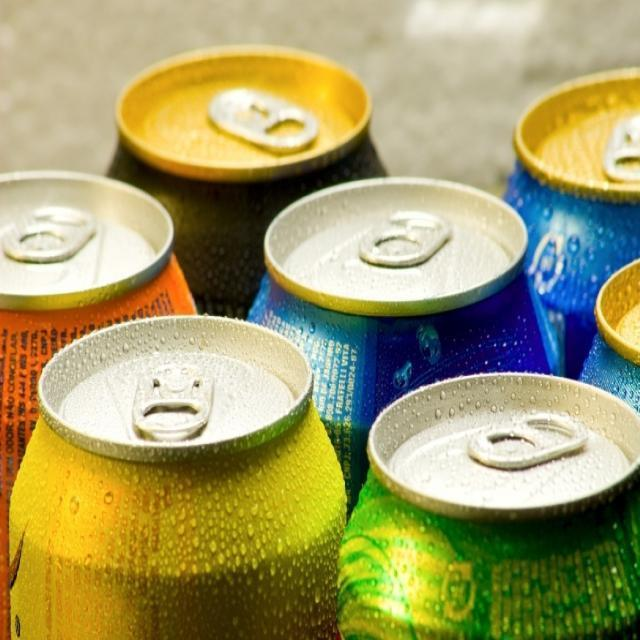metal-can: (11, 318, 347, 640), (340, 369, 640, 639), (248, 172, 530, 314), (104, 46, 374, 180), (0, 165, 174, 312), (506, 61, 640, 202)
